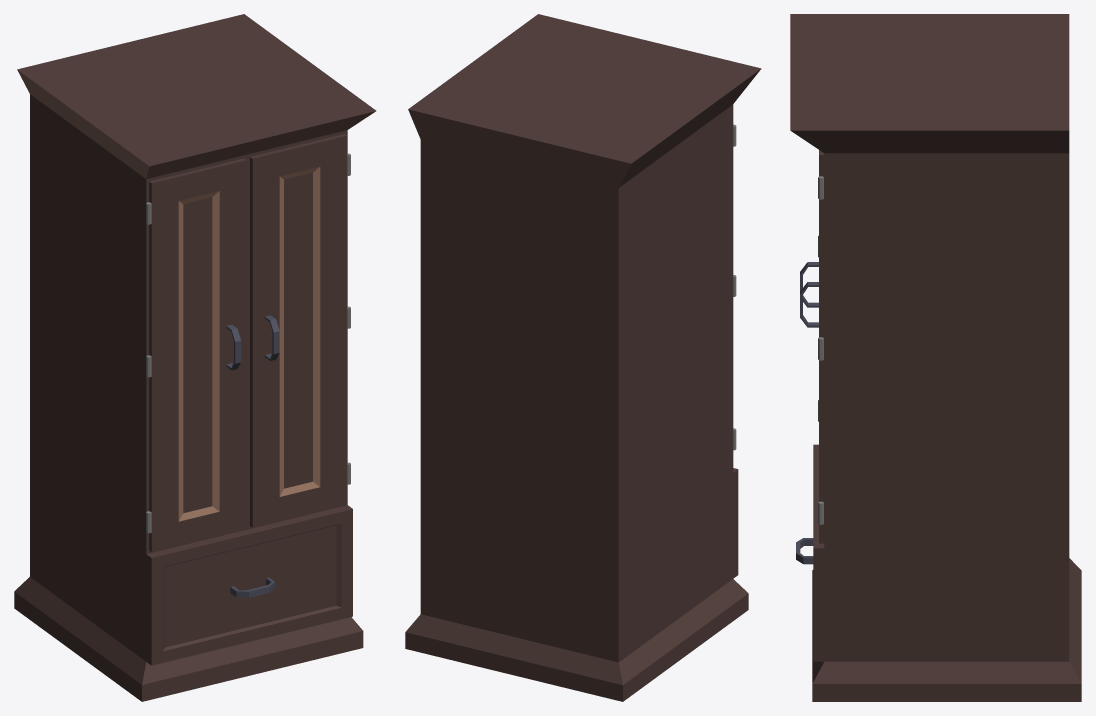
Rendered from StorageCloset.fbx.
3 views of the same model, side by side, from view 1: azimuth 30°, elevation 25°; view 2: azimuth 150°, elevation 25°; view 3: azimuth 270°, elevation 25° (orthographic). The views are drawn at different scales.
Parts seen in each view (by area): view 1: StorageCloset; view 2: StorageCloset; view 3: StorageCloset.
Boxes of the visible parts, x1,y1,x2,y2 form: StorageCloset: [14, 14, 376, 701]; StorageCloset: [405, 14, 761, 701]; StorageCloset: [790, 14, 1081, 701].
Bounding box in the file's own units: 103 × 236 × 109.
